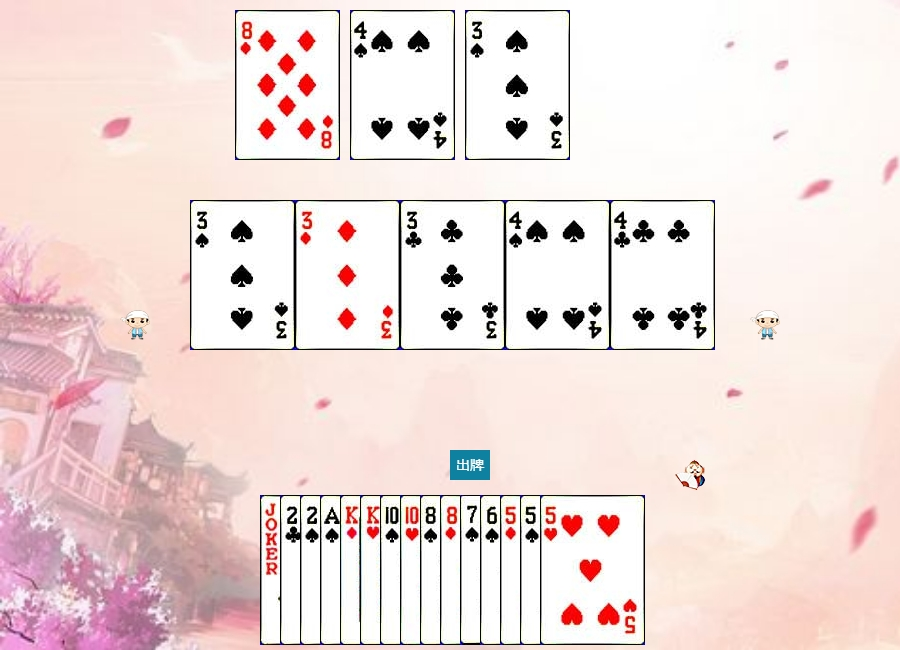10~3: (400, 495, 505, 645)
10~4: (380, 495, 485, 645)
13~1: (340, 495, 445, 645)
13~3: (360, 495, 465, 645)
14~4: (320, 495, 425, 645)
15~2: (280, 495, 385, 645)
15~4: (300, 495, 405, 645)
18~4: (260, 495, 365, 645)
3~1: (295, 200, 400, 350)
3~2: (400, 200, 505, 350)
3~4: (465, 10, 570, 160), (190, 200, 295, 350)
4~2: (610, 200, 715, 350)
4~4: (350, 10, 455, 160), (505, 200, 610, 350)
5~1: (500, 495, 605, 645)
5~3: (540, 495, 645, 645)
5~4: (520, 495, 625, 645)
6~4: (480, 495, 585, 645)
7~4: (460, 495, 565, 645)
8~1: (235, 10, 340, 160), (440, 495, 545, 645)
8~4: (420, 495, 525, 645)
